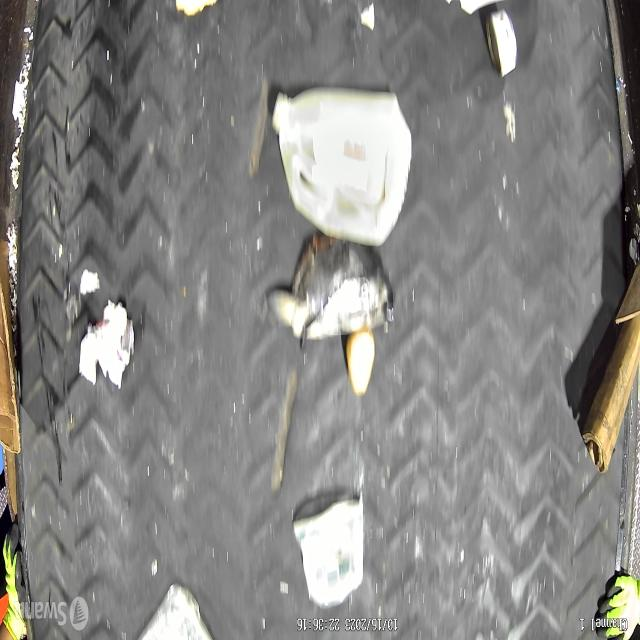can: (484, 10, 518, 82)
milk_jug: (271, 84, 412, 244)
